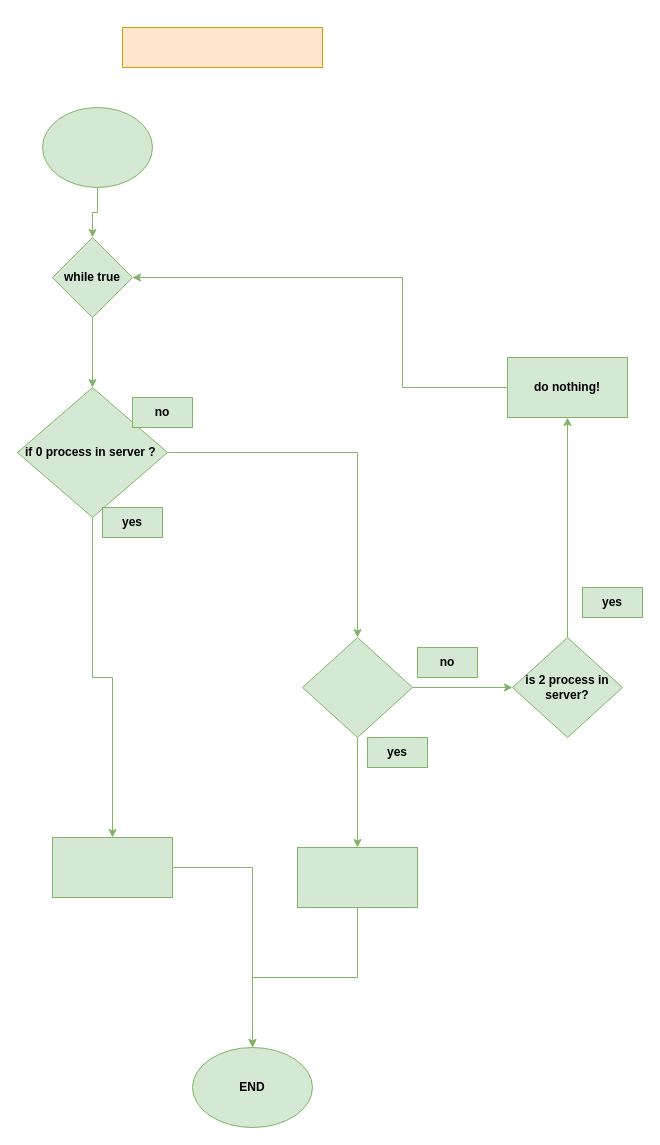
Some shapes in this 660 by 1145 pixel diagram are drawn without their labels. The shapes that lost their labels are listed below. From the top down, each one's box as (x1, y1, x2, y2) in pixels, then its label:
(122, 26, 322, 68): run_forever.php
(42, 106, 152, 188): start
(302, 636, 412, 738): if 1 process in server ?
(52, 836, 172, 898): create 2 background process
(296, 846, 418, 908): create 1 converstion process in background
